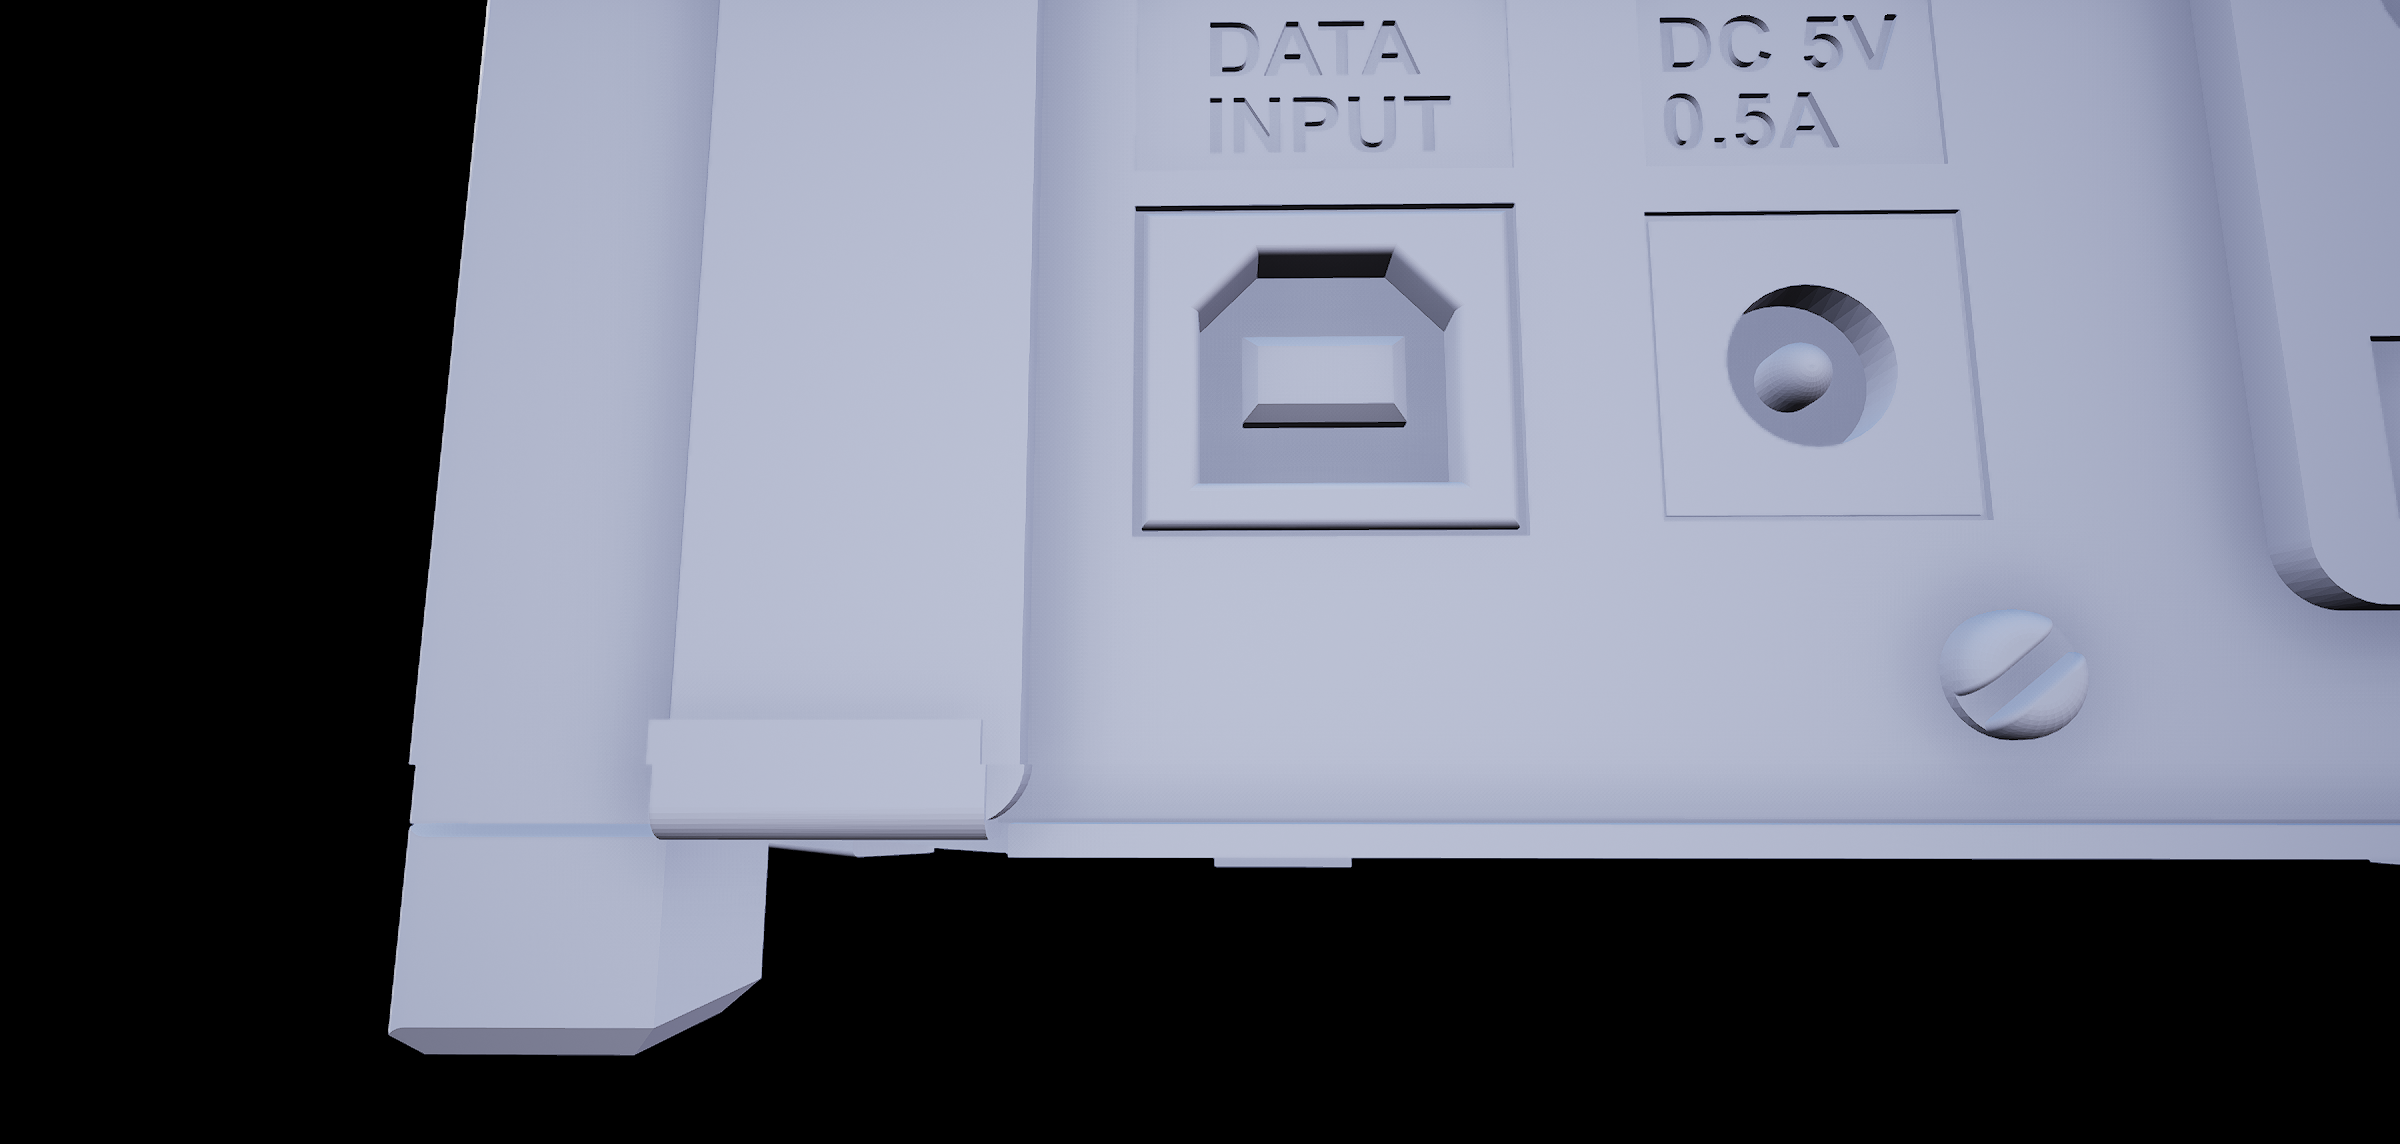dc: (1710, 244, 1922, 472)
usb: (1179, 242, 1488, 492)
